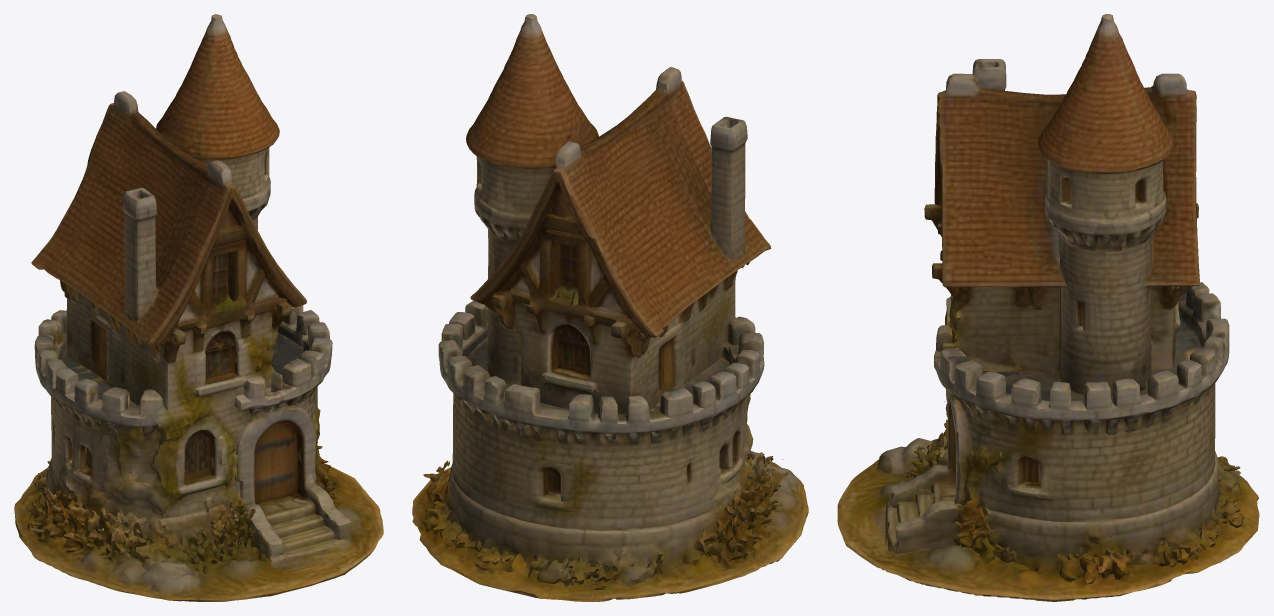
Rendered from fortress.glb.
The picture shows the model from 3 angles, left to right: view 1: azimuth 30°, elevation 25°; view 2: azimuth 150°, elevation 25°; view 3: azimuth 270°, elevation 25°; orthographic projection. The views are drawn at different scales.
Visible parts, largest first — view 1: textured_mesh.obj; view 2: textured_mesh.obj; view 3: textured_mesh.obj.
Part boxes in pixels (x1,y1,x2,y2): textured_mesh.obj: [14, 14, 383, 601]; textured_mesh.obj: [412, 14, 808, 601]; textured_mesh.obj: [837, 14, 1259, 601].
Bounding box in the file's own units: 1.4 × 1.99 × 1.45.
Materials: 1 (1 with a texture image).
